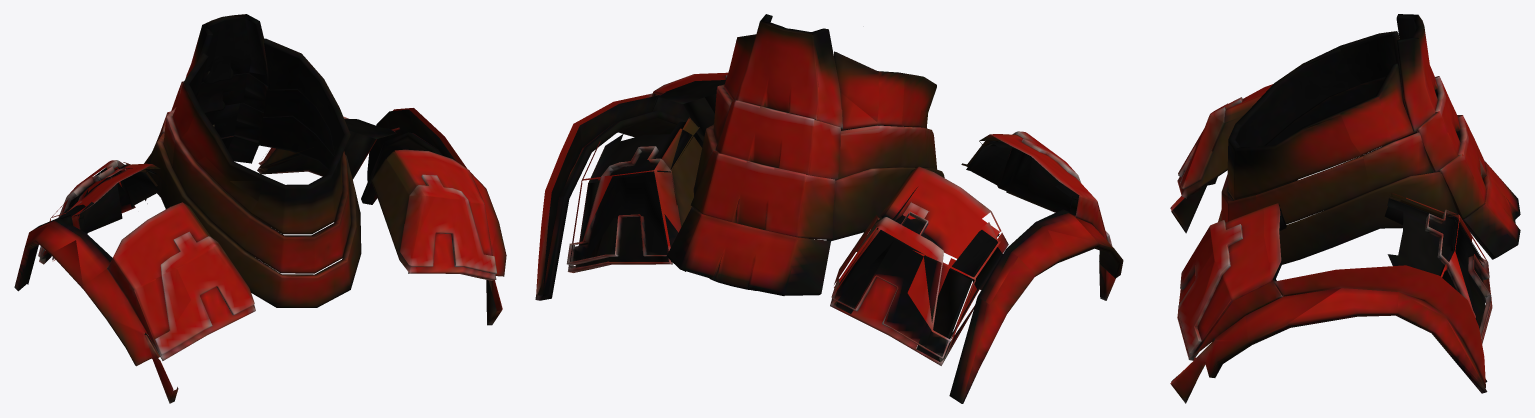
Rendered from neck.glb.
3 views of the same model, side by side, from view 1: azimuth 30°, elevation 25°; view 2: azimuth 150°, elevation 25°; view 3: azimuth 270°, elevation 25° (orthographic). The views are drawn at different scales.
Parts seen in each view (by area): view 1: body .037_36, body .015_14, body .014_13, body .038_37, body .039_38, body .016_15, body .036_35, body .013_12, body .015_14.001, body .014_13.001; view 2: body .036_35, body .015_14.001, body .014_13.001, body .016_15, body .037_36, body .013_12, body .039_38, body .015_14, body .038_37, body .014_13; view 3: body .037_36, body .013_12, body .038_37, body .014_13, body .039_38, body .014_13.001, body .036_35, body .015_14, body .016_15.
Boxes of the visible parts, x1=… form: body .037_36: x1=172, y1=14, x2=350, y2=234; body .015_14: x1=107, y1=202, x2=255, y2=360; body .014_13: x1=371, y1=149, x2=497, y2=280; body .038_37: x1=163, y1=73, x2=351, y2=273; body .039_38: x1=146, y1=103, x2=361, y2=307; body .016_15: x1=14, y1=218, x2=178, y2=403; body .036_35: x1=144, y1=14, x2=258, y2=171; body .013_12: x1=361, y1=108, x2=506, y2=325; body .015_14.001: x1=38, y1=160, x2=166, y2=264; body .014_13.001: x1=257, y1=116, x2=399, y2=179; body .036_35: x1=666, y1=21, x2=831, y2=295; body .015_14.001: x1=830, y1=166, x2=1008, y2=365; body .014_13.001: x1=566, y1=117, x2=703, y2=272; body .016_15: x1=949, y1=209, x2=1123, y2=403; body .037_36: x1=723, y1=14, x2=936, y2=130; body .013_12: x1=535, y1=93, x2=704, y2=300; body .039_38: x1=690, y1=124, x2=944, y2=241; body .015_14: x1=961, y1=131, x2=1112, y2=245; body .038_37: x1=713, y1=84, x2=937, y2=180; body .014_13: x1=653, y1=72, x2=727, y2=136; body .037_36: x1=1227, y1=14, x2=1435, y2=200; body .013_12: x1=1170, y1=265, x2=1487, y2=403; body .038_37: x1=1221, y1=78, x2=1457, y2=224; body .014_13: x1=1177, y1=203, x2=1286, y2=360; body .039_38: x1=1218, y1=115, x2=1484, y2=264; body .014_13.001: x1=1384, y1=193, x2=1492, y2=343; body .036_35: x1=1412, y1=15, x2=1520, y2=259; body .015_14: x1=1177, y1=84, x2=1272, y2=198; body .016_15: x1=1170, y1=177, x2=1217, y2=233.
Bounding box in the file's own units: 0.4982 × 0.3148 × 0.3596.
Materials: 3 (3 with a texture image).
